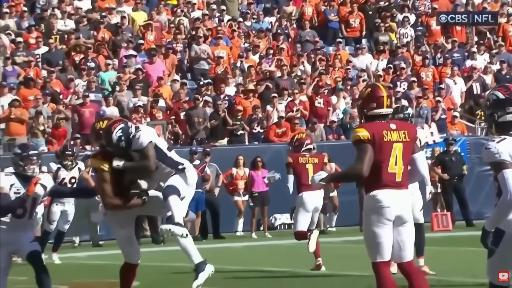Helmet: (486, 84, 511, 134), (358, 83, 393, 115), (103, 119, 134, 152), (12, 144, 41, 176), (92, 117, 114, 144), (59, 144, 77, 170), (290, 133, 313, 152), (392, 105, 413, 122)
Jersey: (352, 120, 417, 193), (2, 173, 53, 233), (132, 125, 191, 170), (91, 150, 136, 201), (287, 153, 327, 193), (49, 162, 85, 187), (417, 128, 430, 147), (417, 128, 429, 147), (497, 184, 511, 200)
Player: (313, 84, 429, 287), (92, 119, 214, 287), (0, 144, 53, 287), (481, 84, 511, 287), (286, 133, 326, 270), (409, 182, 435, 274), (39, 198, 74, 263), (322, 185, 339, 230)
